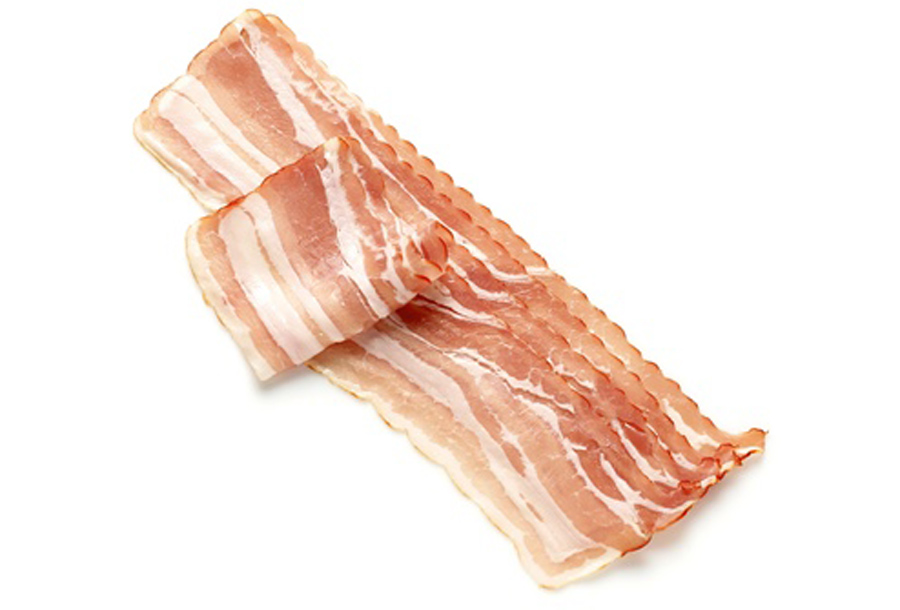bacon: (142, 12, 793, 533)
